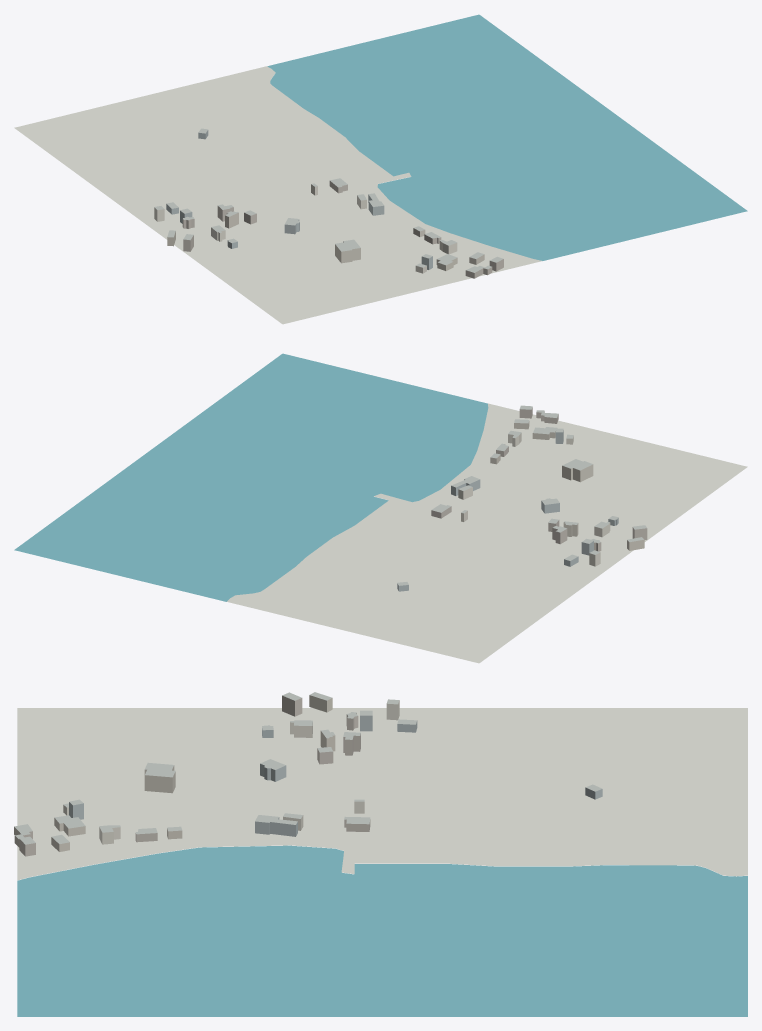
The picture shows the model from 3 angles, top to bottom: view 1: azimuth 30°, elevation 25°; view 2: azimuth 150°, elevation 25°; view 3: azimuth 270°, elevation 25°; orthographic projection. The views are drawn at different scales.
Visible parts, largest first — view 1: city; view 2: city; view 3: city.
Part boxes in pixels (x1=…): city: x1=14, y1=14, x2=747, y2=324; city: x1=14, y1=353, x2=747, y2=663; city: x1=14, y1=692, x2=747, y2=1016.
Size of the model in its own units: 506 by 12.18 by 502.
